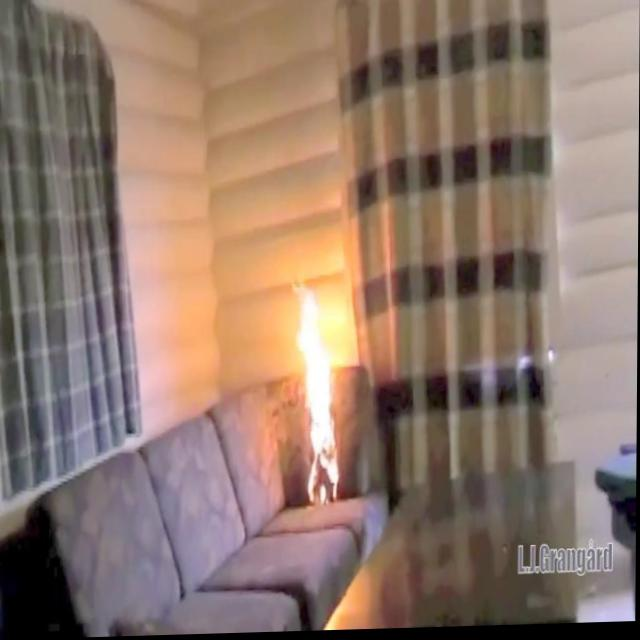fire: (287, 274, 350, 522)
